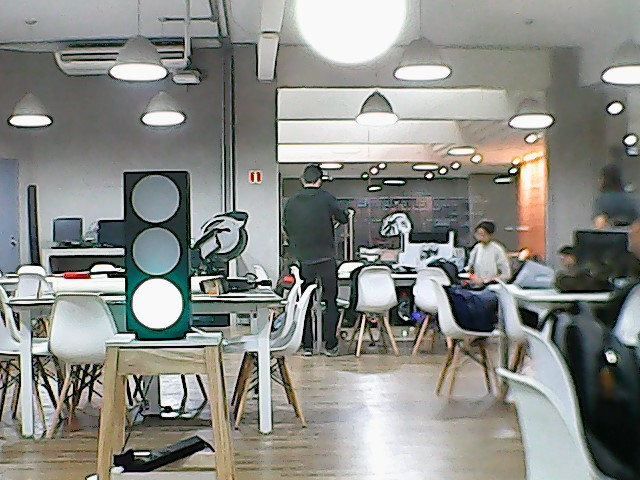verde: (121, 167, 196, 344)
